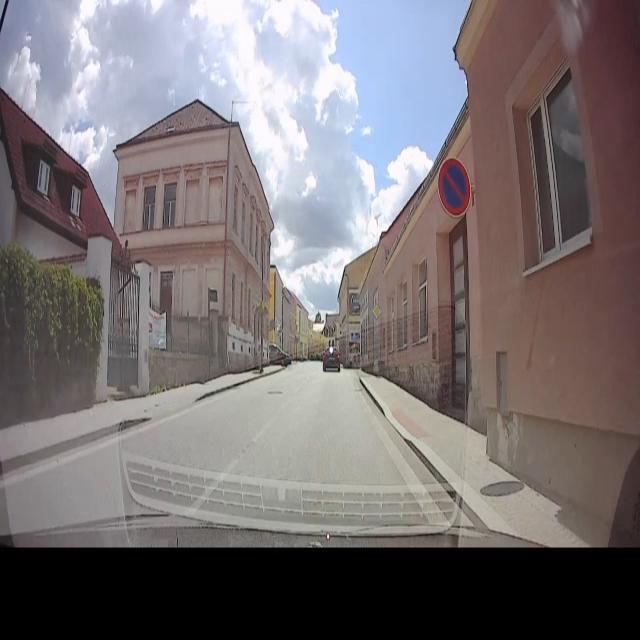forb_stopping: (437, 158, 472, 220)
